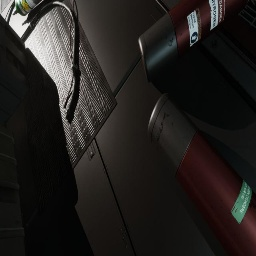0: (12, 0, 42, 16)
NitrogenTank ,: (148, 93, 256, 256), (138, 0, 248, 82)
